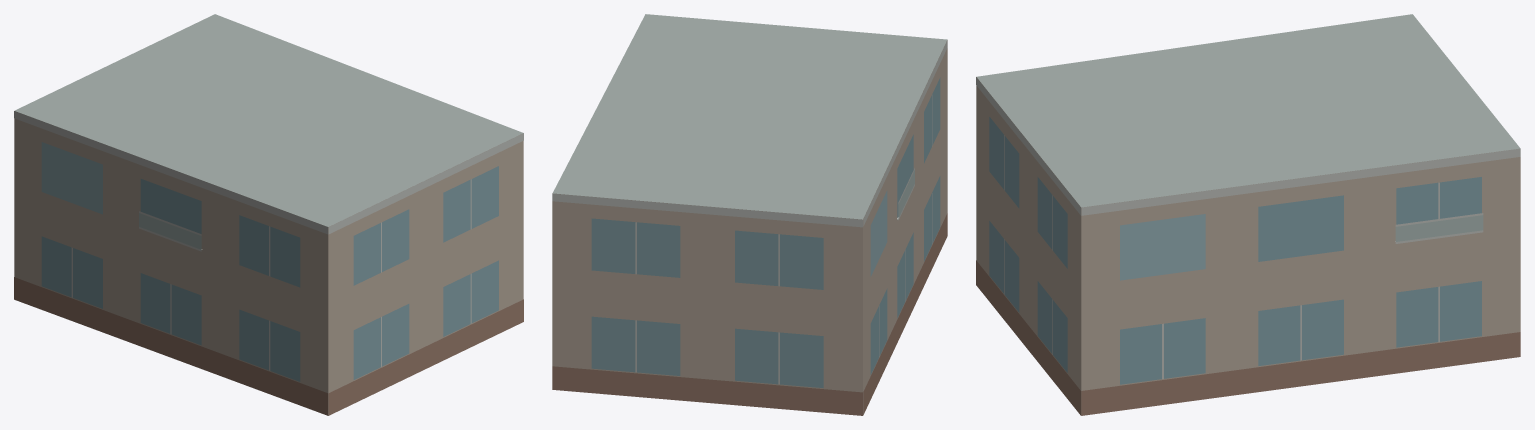
File: survey-upis-32884070.glb
3 views of the same model, side by side, from view 1: azimuth 30°, elevation 25°; view 2: azimuth 150°, elevation 25°; view 3: azimuth 270°, elevation 25° (orthographic). The views are drawn at different scales.
Parts seen in each view (by area): view 1: survey-upis-32884070.tmp; view 2: survey-upis-32884070.tmp; view 3: survey-upis-32884070.tmp.
Part boxes in pixels (<box>): survey-upis-32884070.tmp: <box>14,14,523,415</box>; survey-upis-32884070.tmp: <box>552,14,947,415</box>; survey-upis-32884070.tmp: <box>976,14,1520,415</box>.
Bounding box in the file's own units: 12.16 × 6.1 × 14.46.
